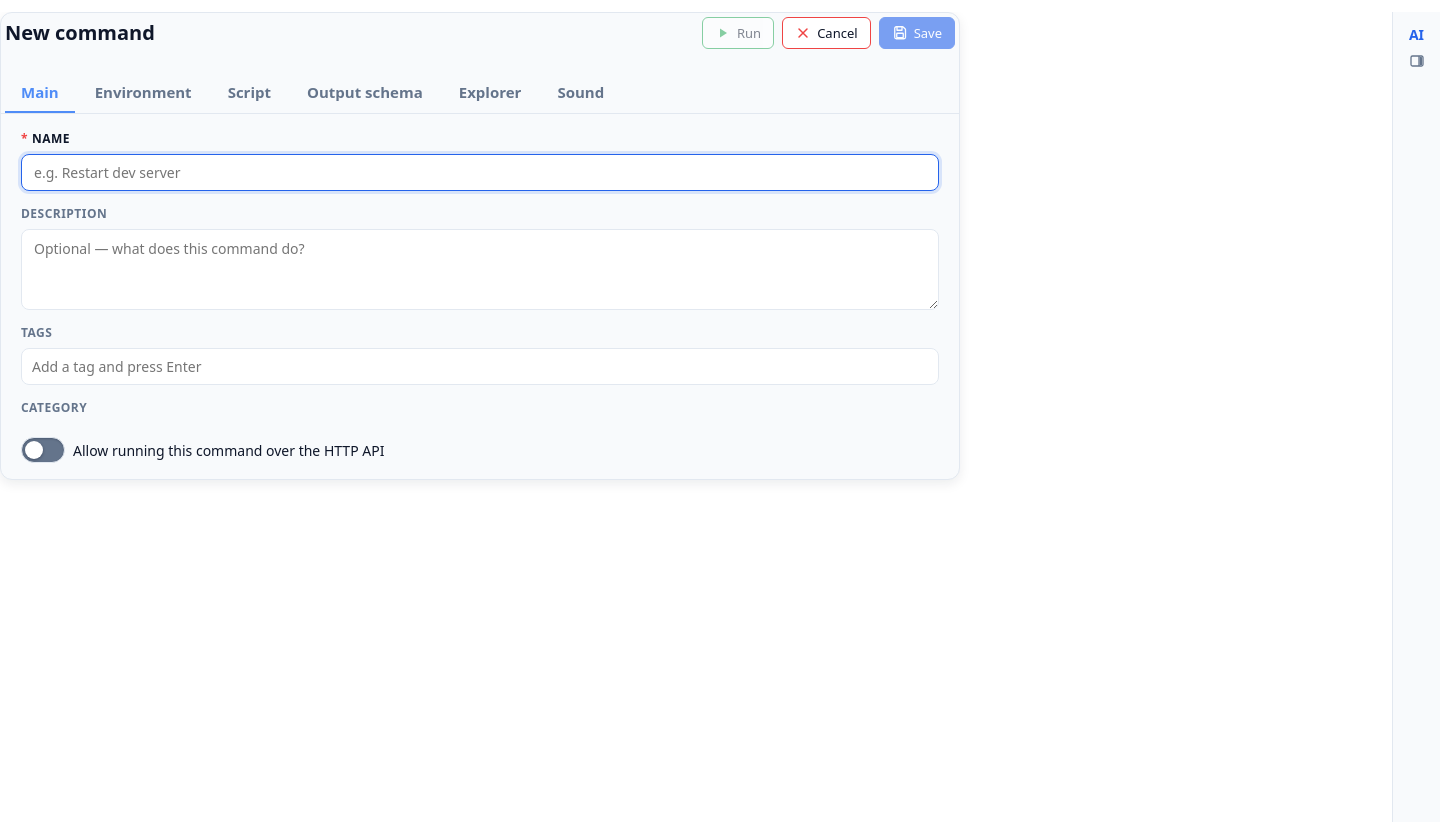
Test: CommandForm — Variables section › marks Save invalid (aria-disabled) while an untouched row is still invalid
Type "Test cmd" into the field with placeholder "e.g. Restart dev server". click: (480, 172)
box: [21,154,939,191]
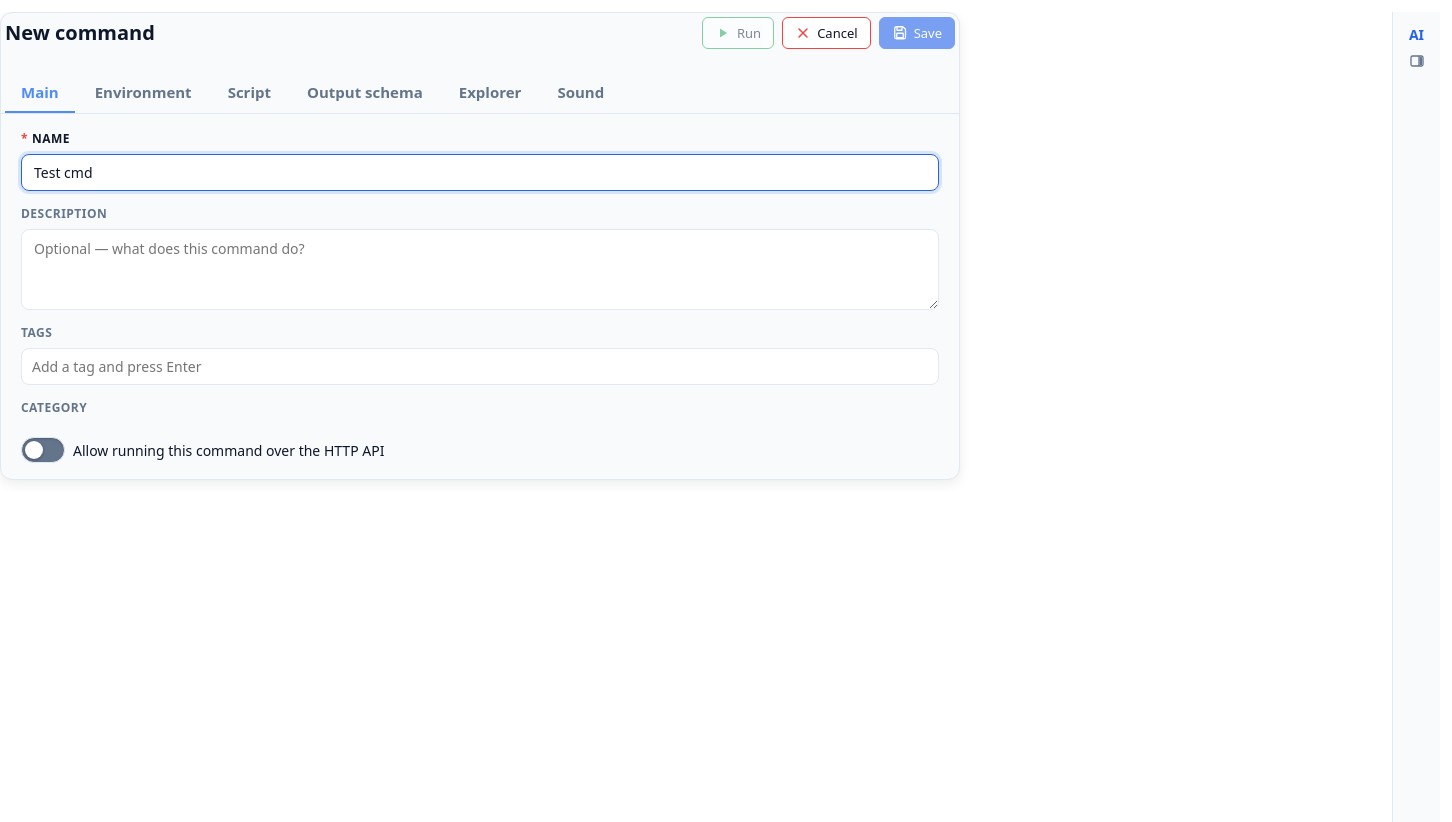
Click the tab "Script". click: (249, 93)
box: [212,73,287,113]
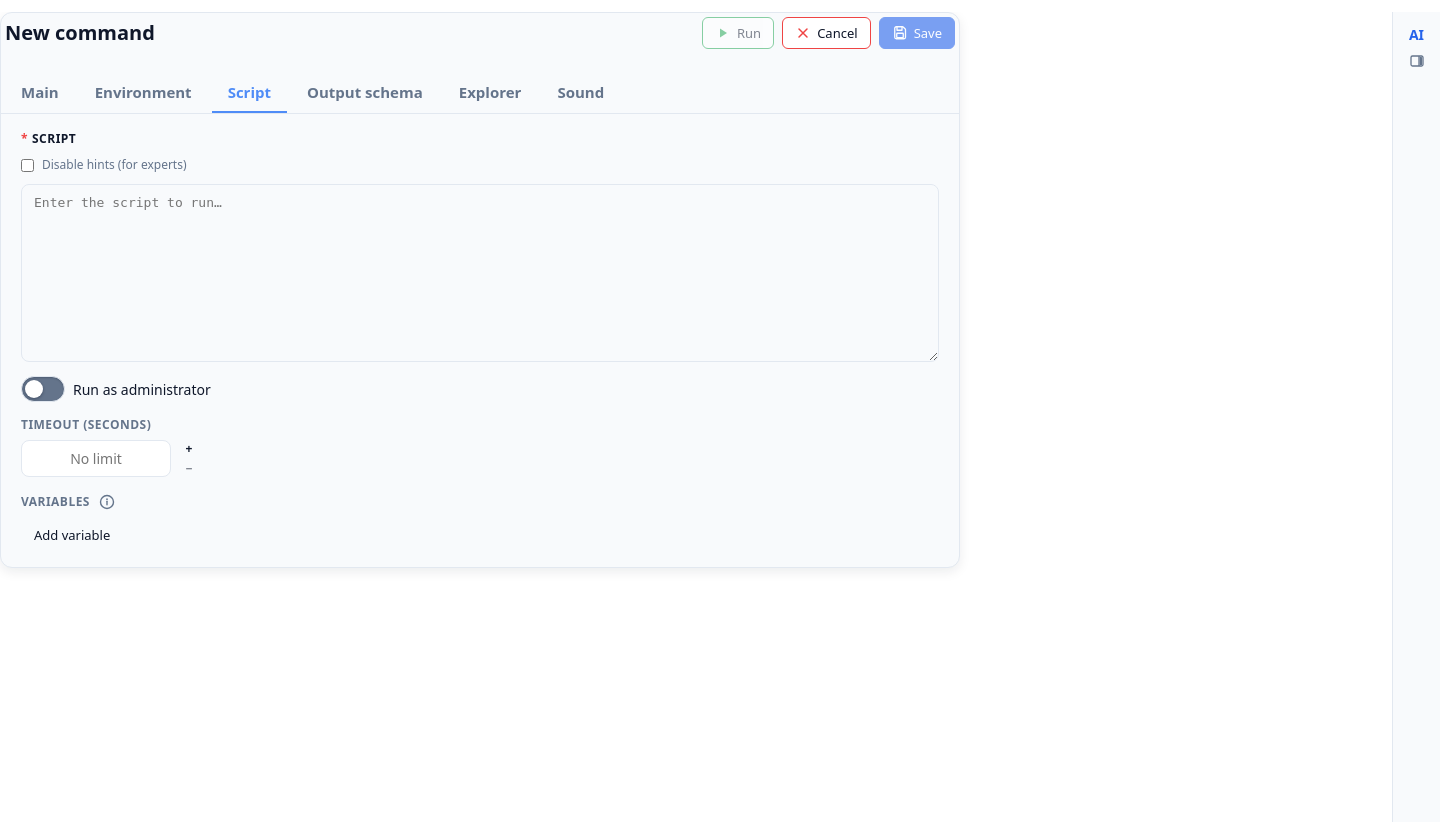
Type "echo hi" into the text box with placeholder "Enter the script to run…". click: (480, 273)
box: [21,184,939,362]
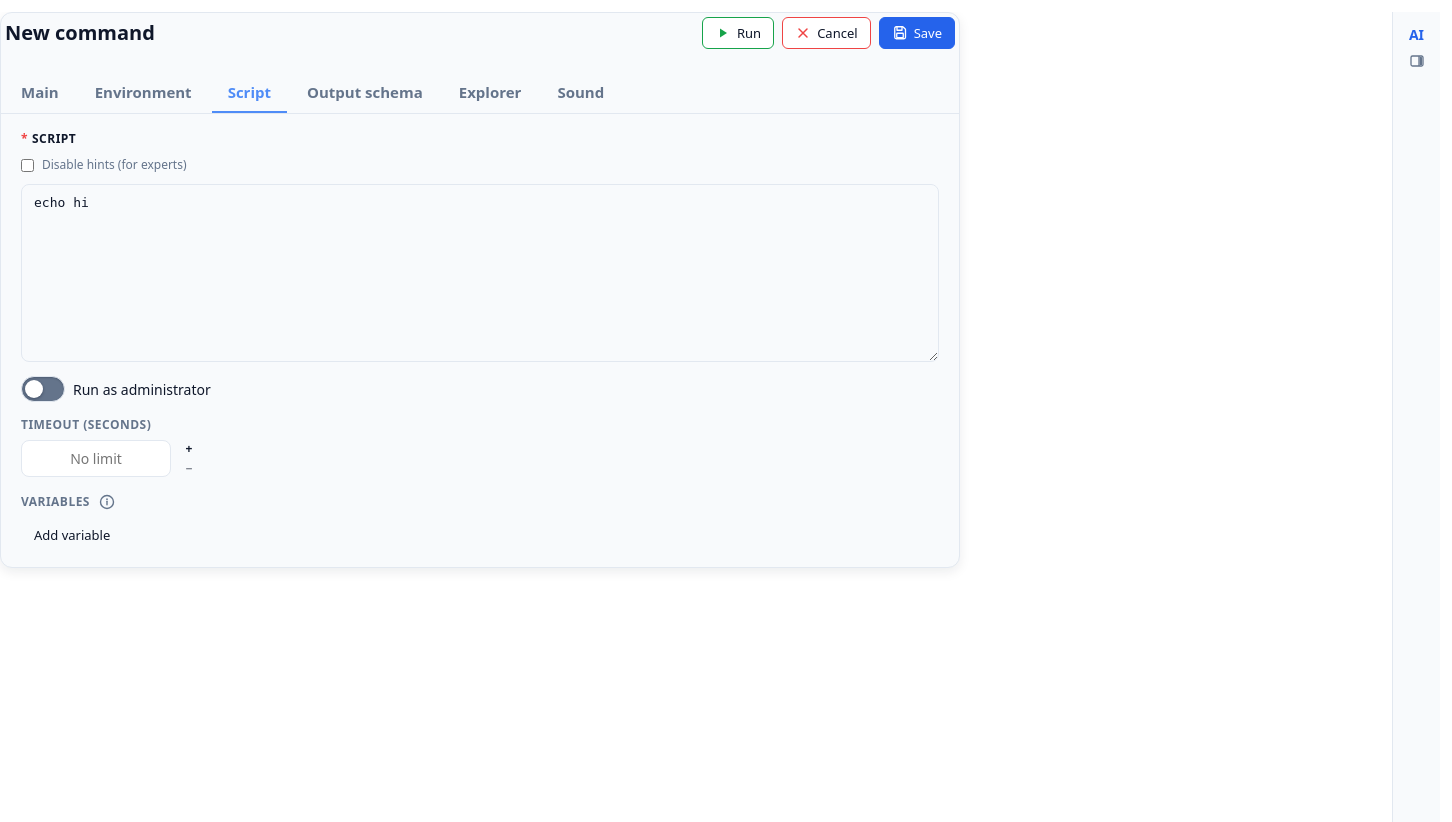
Click the tab "Main". click: (40, 93)
box: [5,73,75,113]
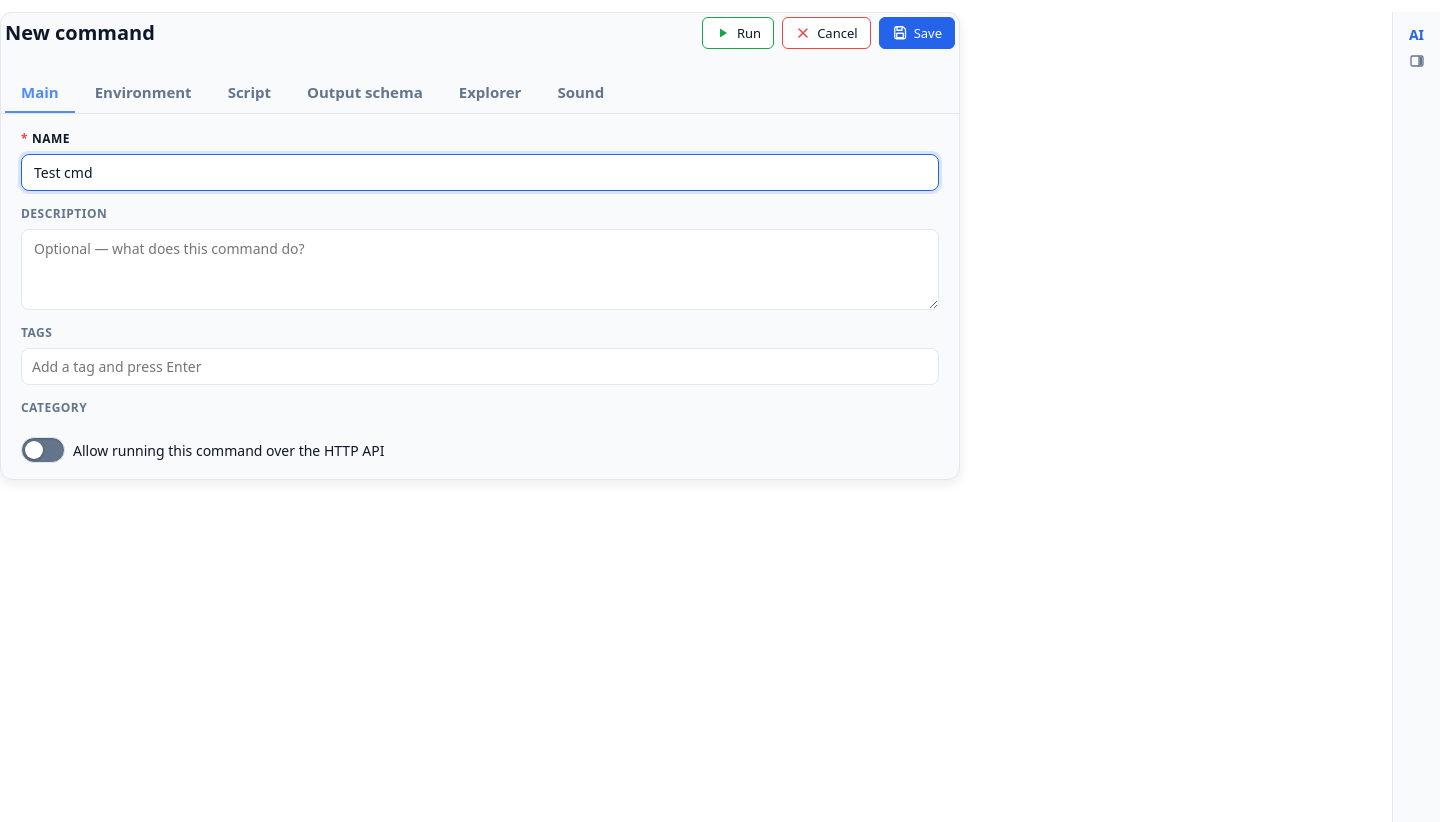
Click the tab "Script". click: (249, 93)
box: [212,73,287,113]
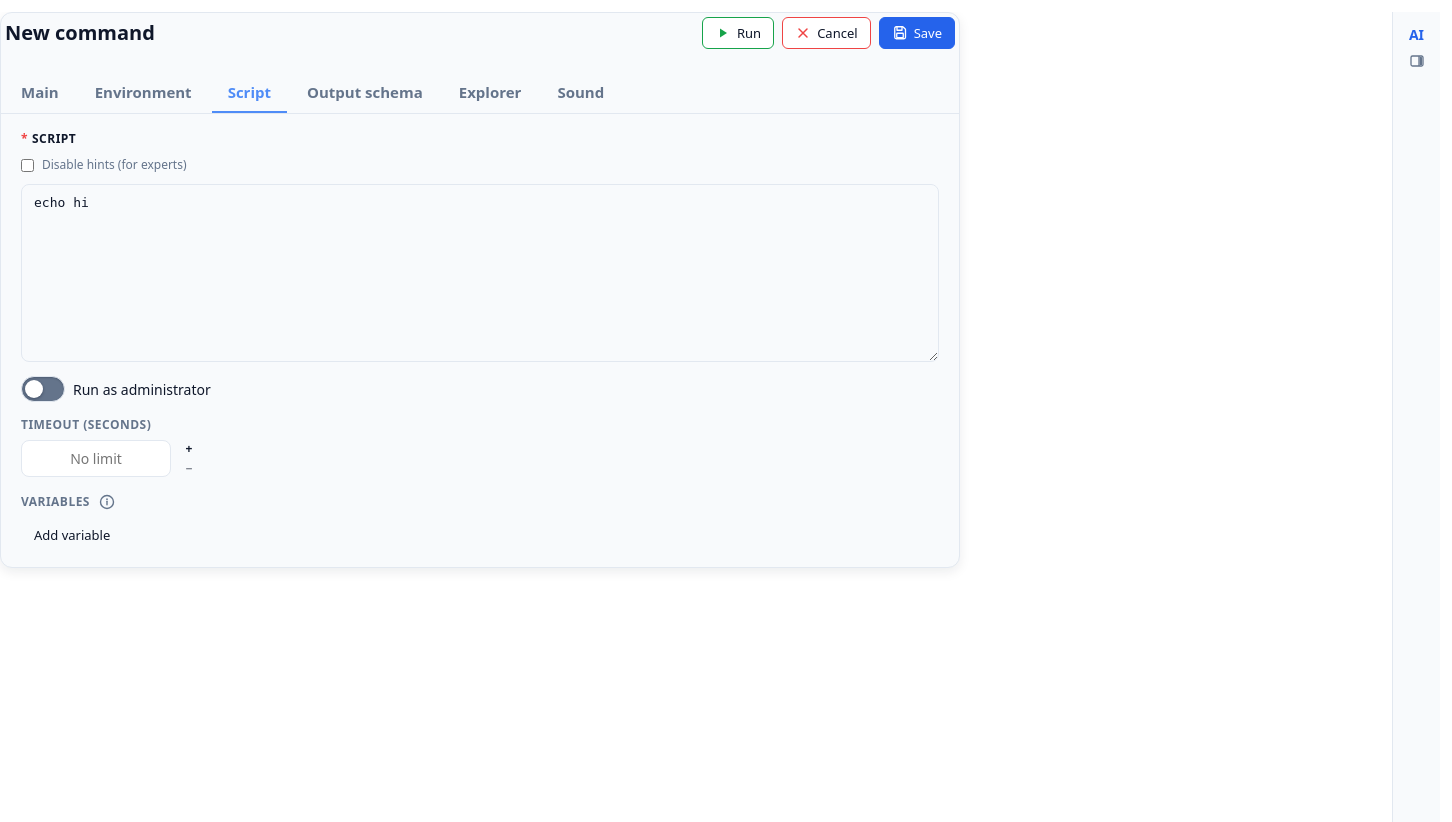
Click the button "Add variable". click: (72, 535)
box: [21,519,939,551]
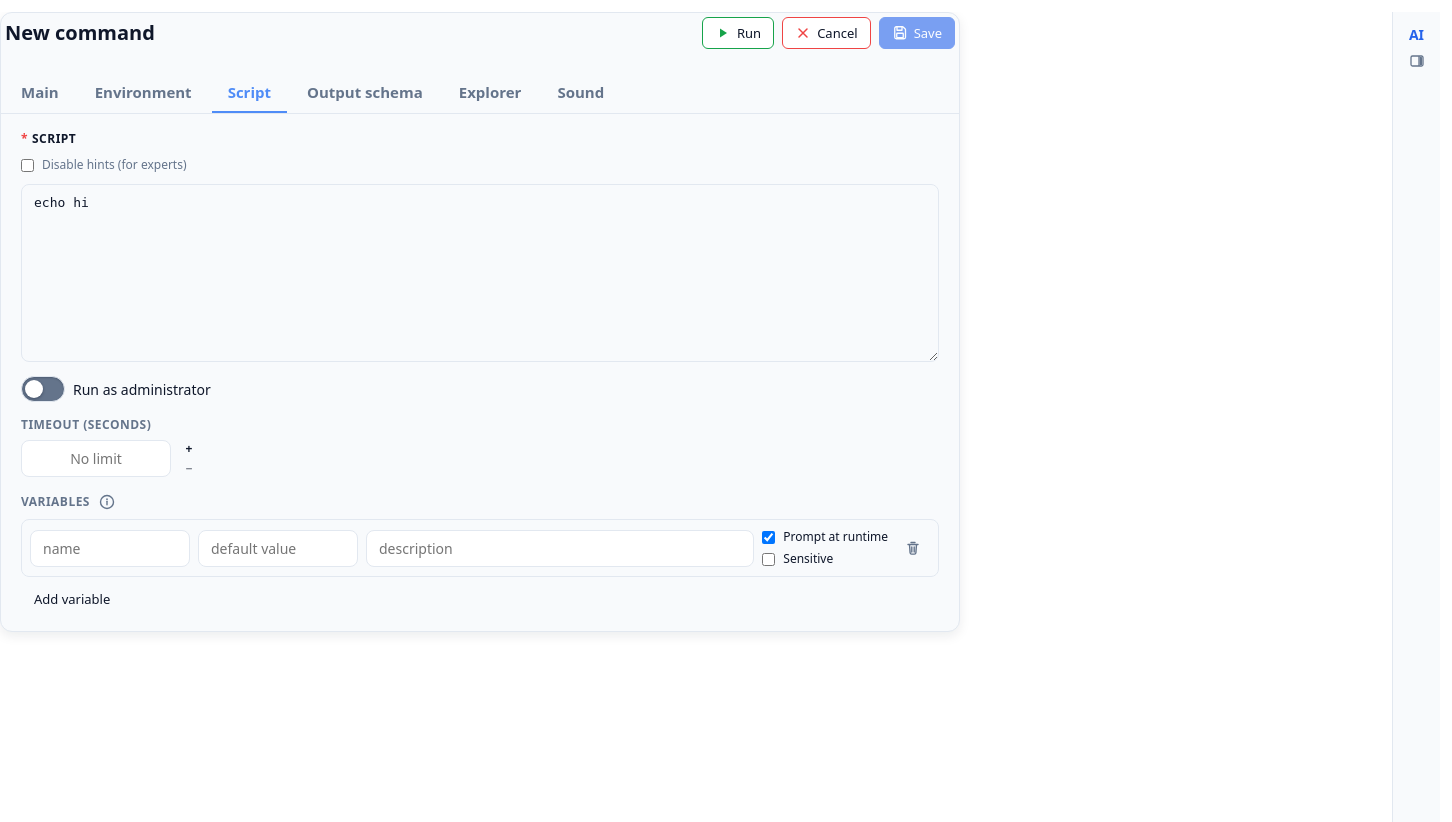
expect the list item "Prompt at runtime Sensitive" is shown: met, box [21,519,939,577]
